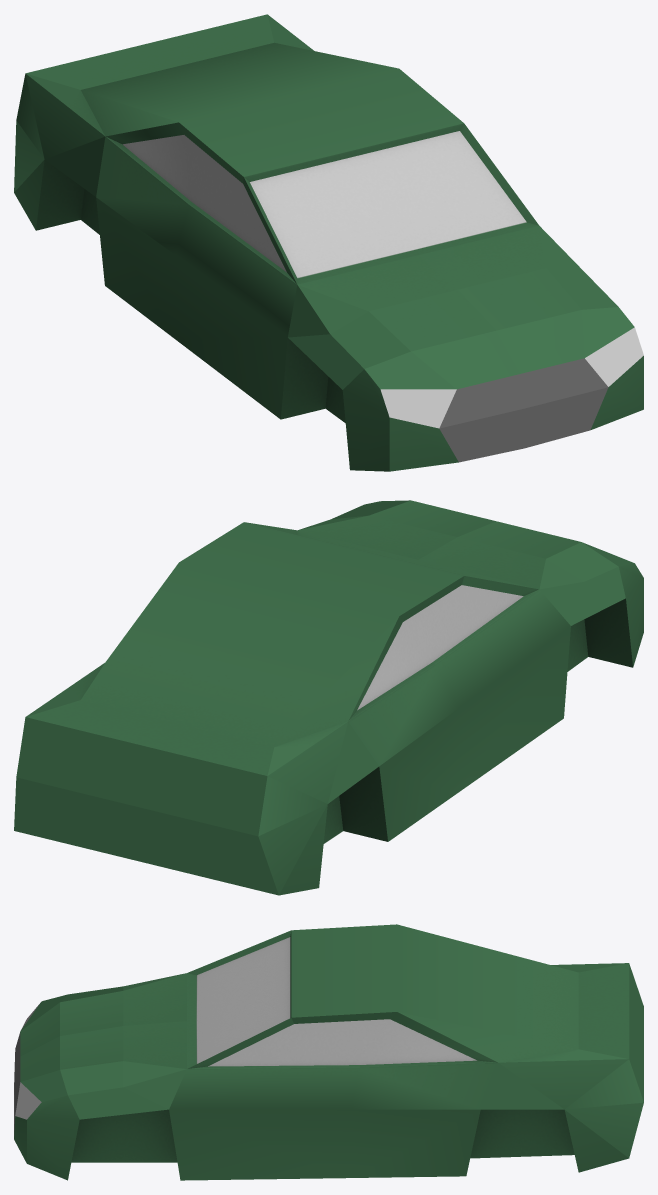
File: CarModel_PropCar_Green.fbx
3 views of the same model, one above another, from view 1: azimuth 30°, elevation 25°; view 2: azimuth 150°, elevation 25°; view 3: azimuth 270°, elevation 25° (orthographic). The views are drawn at different scales.
Parts seen in each view (by area): view 1: CarModel_2_Ref:pCube5; view 2: CarModel_2_Ref:pCube5; view 3: CarModel_2_Ref:pCube5.
Boxes of the visible parts, x1,y1,x2,y2 form: CarModel_2_Ref:pCube5: [14, 14, 643, 471]; CarModel_2_Ref:pCube5: [14, 500, 643, 895]; CarModel_2_Ref:pCube5: [14, 924, 643, 1180].
Size of the model in its own units: 2.03 by 1.31 by 4.81.
1 material, 1 textured.
